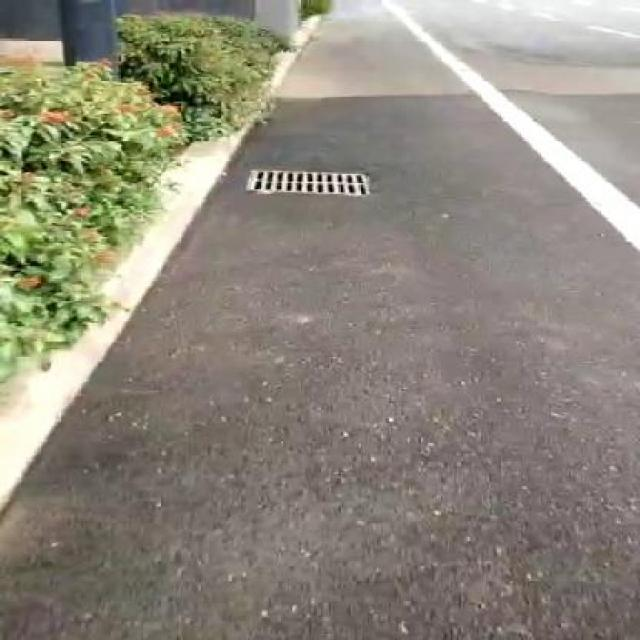Manhole: (243, 166, 372, 200)
